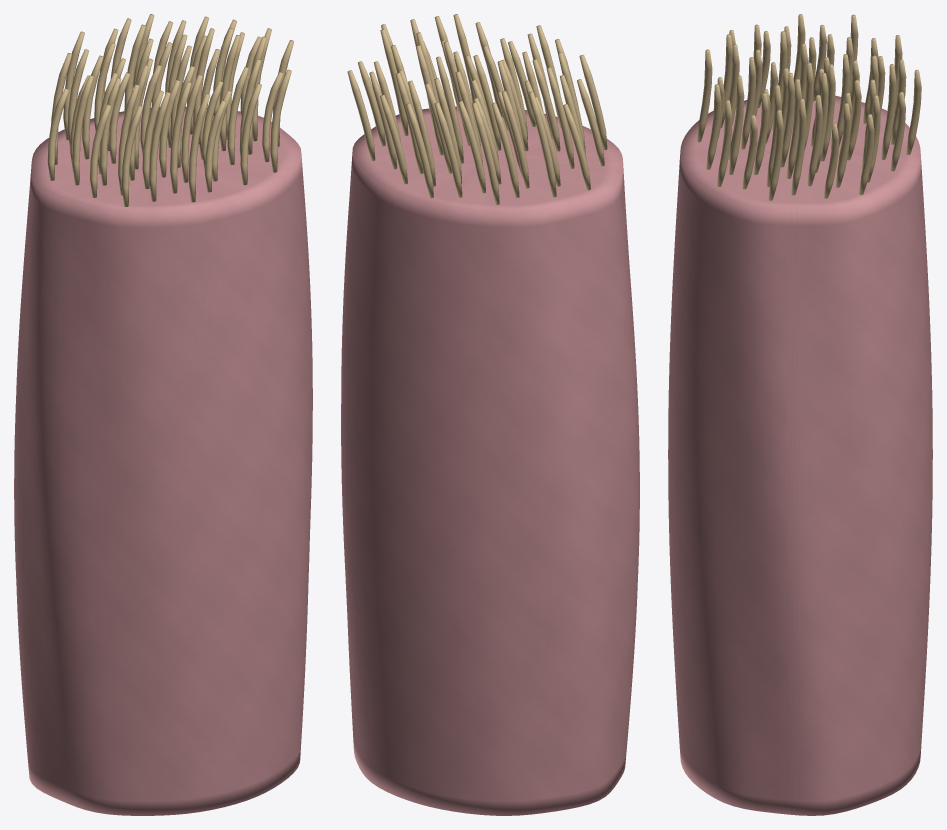
Rendered from ciliada-complete.glb.
3 views of the same model, side by side, from view 1: azimuth 30°, elevation 25°; view 2: azimuth 150°, elevation 25°; view 3: azimuth 270°, elevation 25° (orthographic).
Parts seen in each view (by area): view 1: membrane_mesh, cilia_mesh; view 2: membrane_mesh, cilia_mesh; view 3: membrane_mesh, cilia_mesh.
Part boxes in pixels (left/top/right/bottom): membrane_mesh: left=14, top=106, right=312, bottom=815; cilia_mesh: left=47, top=14, right=293, bottom=206; membrane_mesh: left=341, top=106, right=639, bottom=815; cilia_mesh: left=347, top=14, right=607, bottom=204; membrane_mesh: left=668, top=95, right=932, bottom=815; cilia_mesh: left=696, top=14, right=921, bottom=200.
Bounding box in the file's own units: 1.12 × 2.86 × 0.9604.
7 materials, 7 textured.
